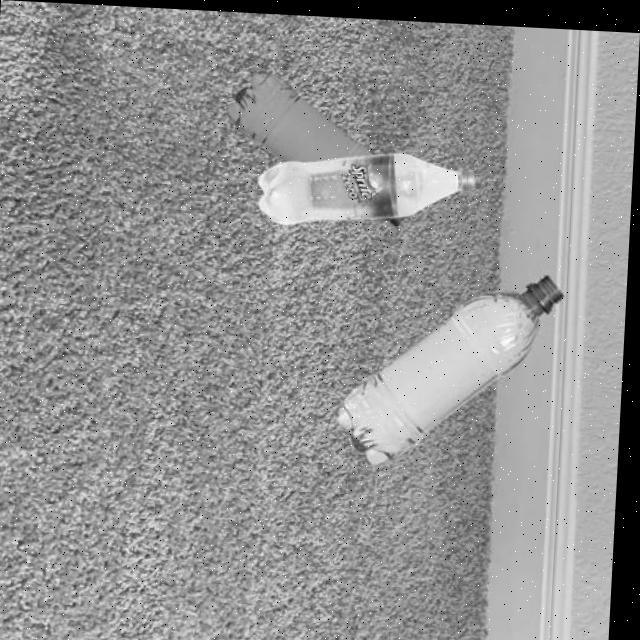bottle: (334, 258, 570, 470), (257, 141, 479, 230)
